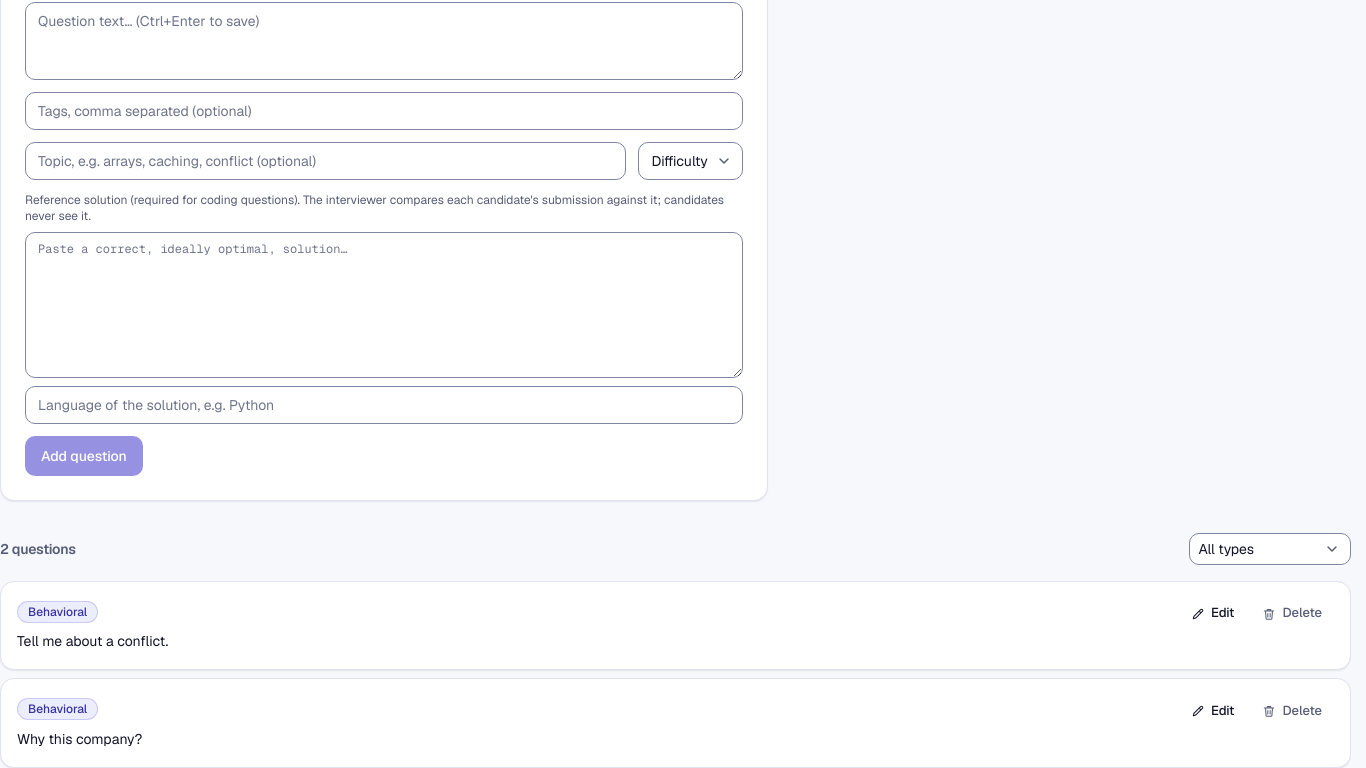
QuestionBankView › deletes a question after confirming in the dialog
The width and height of the screenshot is (1366, 768).
(page scrolled)
What coordinates should you click on to do the following:
click the button with aria-label "Delete question: Tell me about a conflict"
I would click on:
 (1292, 614)
Its box is [1250,598,1334,630].
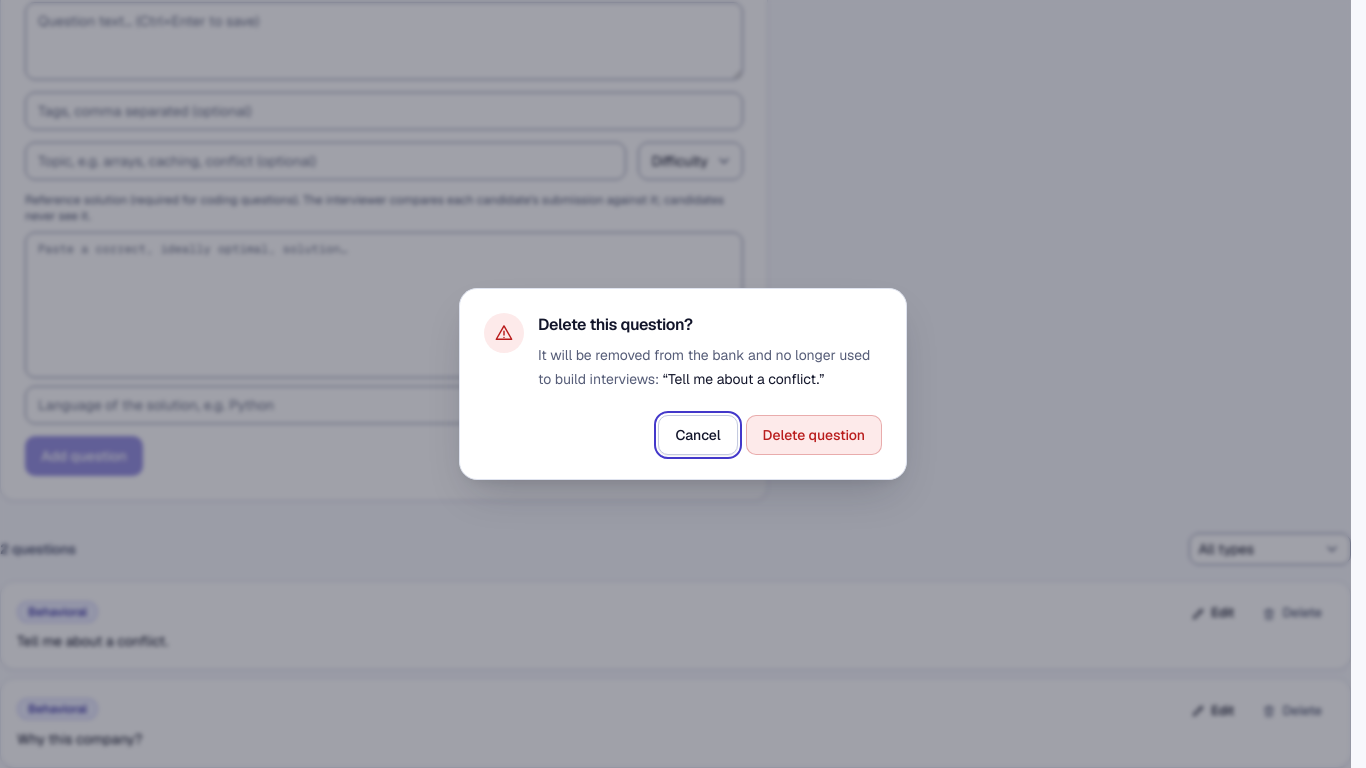
What coordinates should you click on to do the following:
click the button "Delete question"
I would click on:
 (814, 435)
Its box is [746,415,882,455].
(page scrolled)
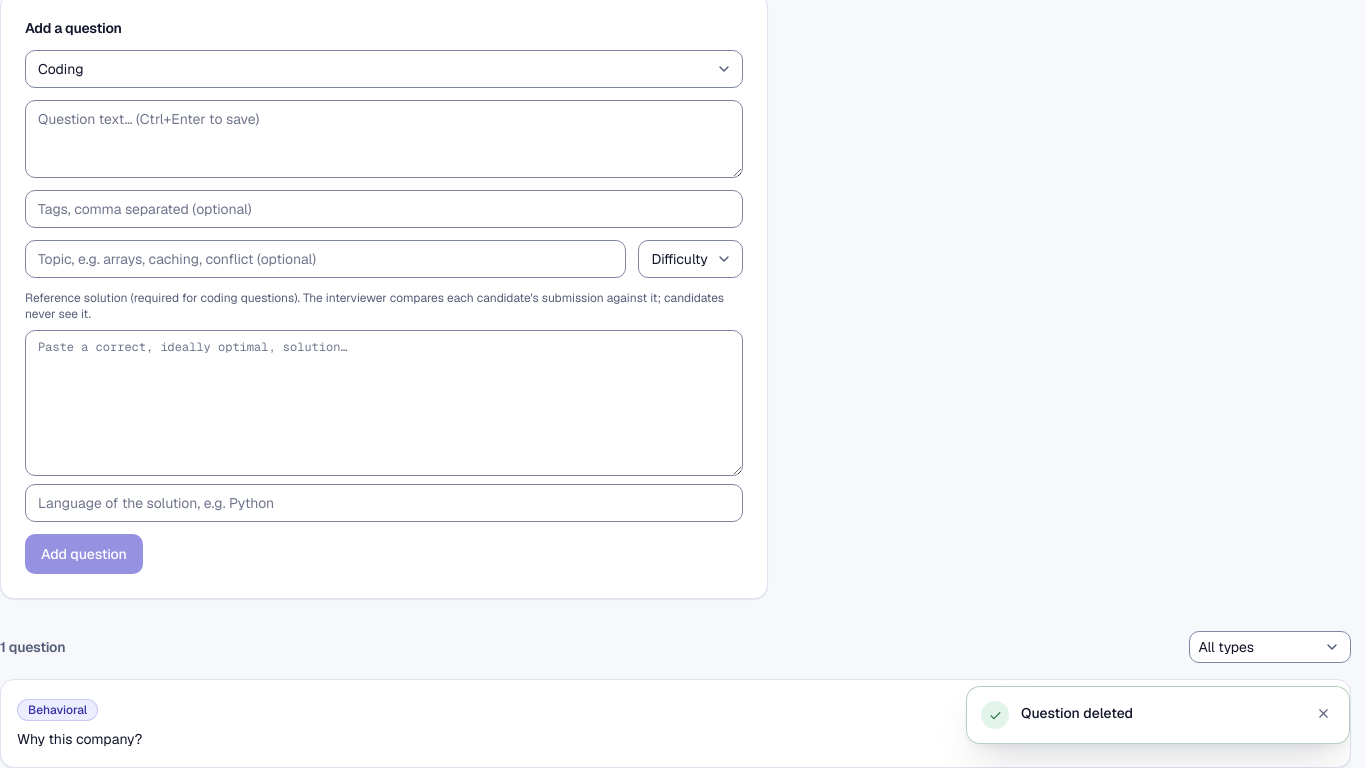
Expected: the dialog is gone
Expected: the text "Tell me about a conflict." is gone
Expected: the text "Question deleted" is shown, [1021,704,1133,722]
